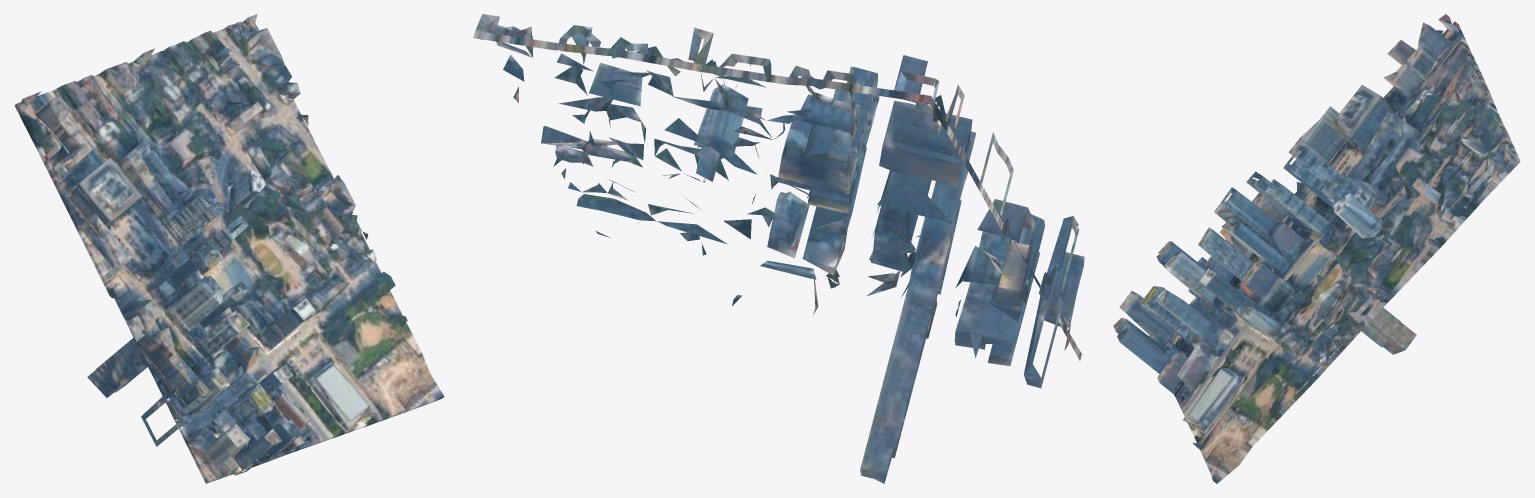
File: AJVsH2zvLp0uxnMZMWx1aIiSXXcVYtTEROdumNGxIjYbUz7uJkWxbHCnJjvTMUfL6ELRD79X6qlLxFBBNnZhhT7QbfhdCkZeQZCs7Qwv0tkzgbkBiK01dWiZU6Z6_lWITQn-ugqCUV-n-SURYiBmXAFq1eGNdyHXPw.glb
3 renders of one model, left to right at view 1: azimuth 30°, elevation 25°; view 2: azimuth 150°, elevation 25°; view 3: azimuth 270°, elevation 25°, orthographic. The views are drawn at different scales.
Bounding box in the file's own units: 514 × 483 × 551.
1 material, 1 textured.
